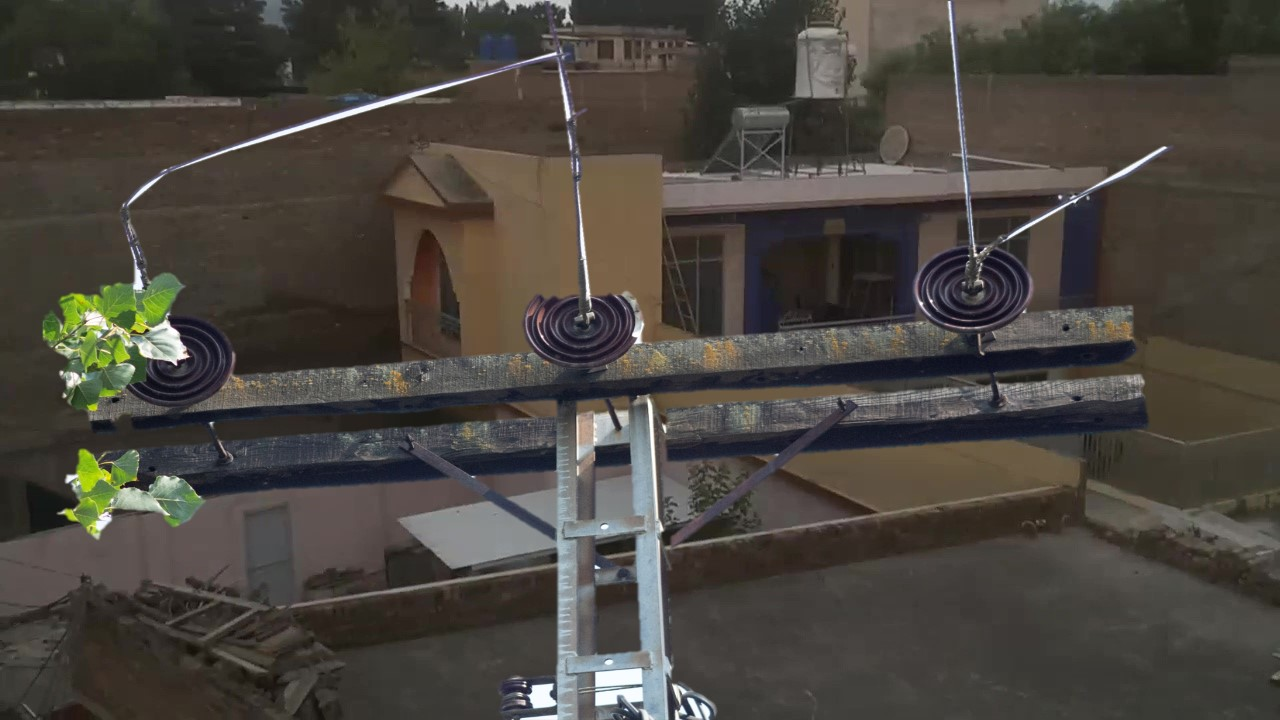defect_disc: (521, 278, 655, 375)
insulator_disc: (909, 240, 1036, 338), (125, 308, 240, 410)
